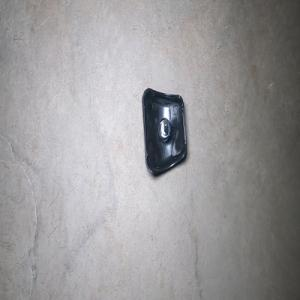LuggagePart: (141, 86, 187, 176)
